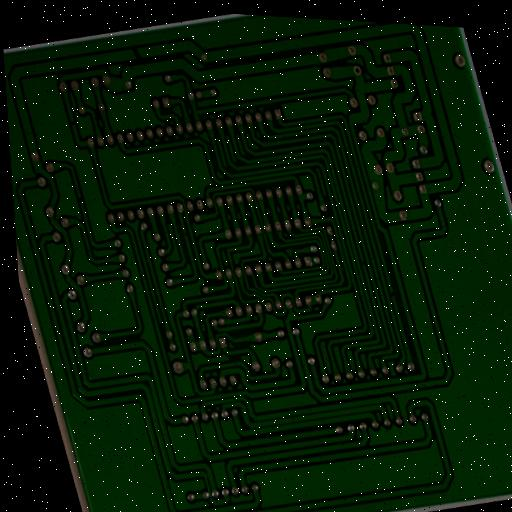open_circuit: (128, 45, 144, 63), (68, 117, 78, 130), (75, 193, 84, 205), (387, 289, 397, 299), (358, 258, 366, 267)
